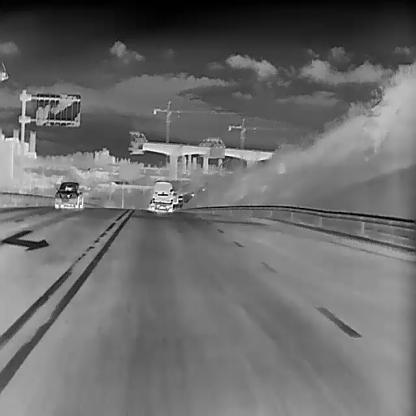car: (54, 181, 82, 210), (149, 181, 173, 212)
